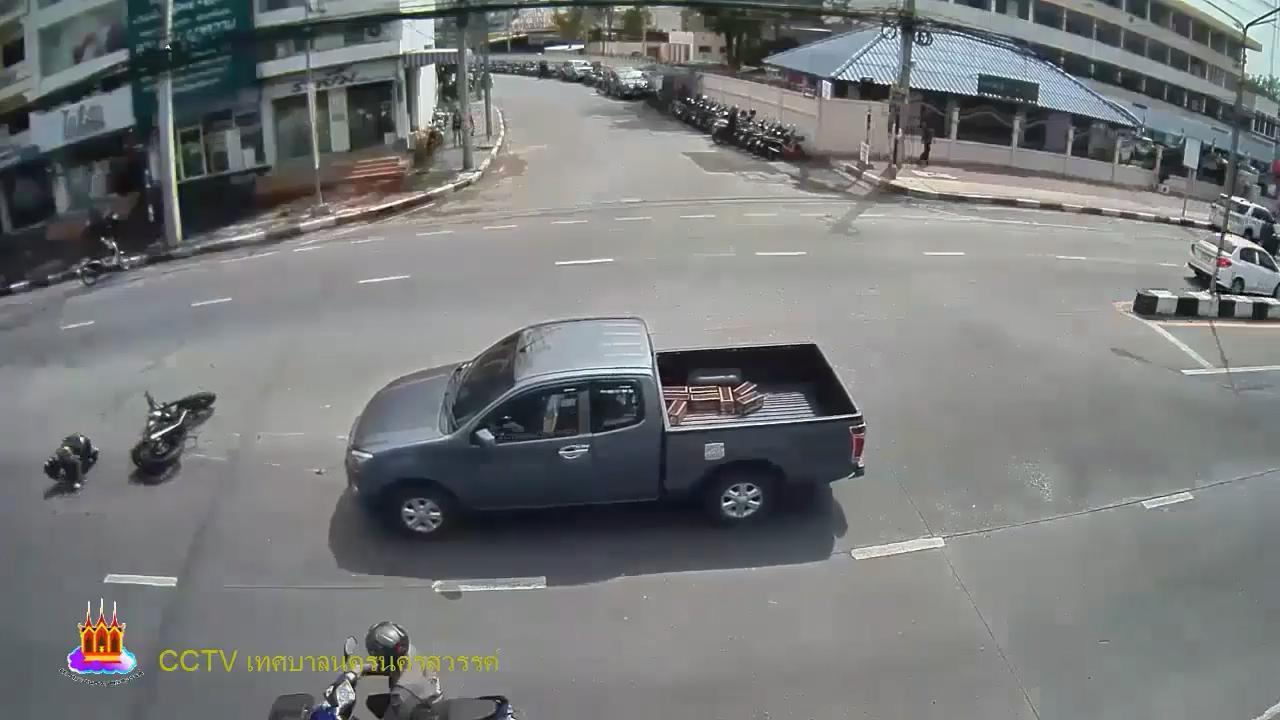accident: (42, 431, 105, 495)
